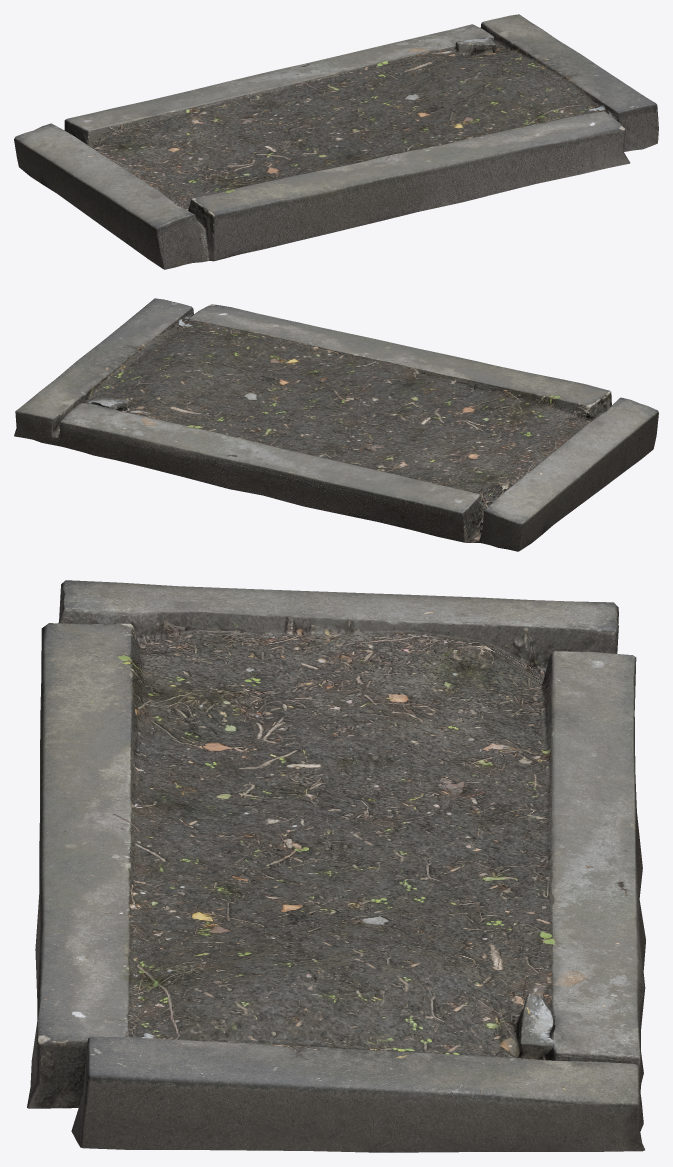
File: sm_Grave_05_02.fbx
The picture shows the model from 3 angles, top to bottom: view 1: azimuth 30°, elevation 25°; view 2: azimuth 150°, elevation 25°; view 3: azimuth 270°, elevation 25°; orthographic projection. The views are drawn at different scales.
Parts seen in each view (by area): view 1: sm_Grave_05_02_LOD0; view 2: sm_Grave_05_02_LOD0; view 3: sm_Grave_05_02_LOD0.
Boxes of the visible parts, x1,y1,x2,y2 form: sm_Grave_05_02_LOD0: [14, 14, 658, 269]; sm_Grave_05_02_LOD0: [14, 298, 658, 551]; sm_Grave_05_02_LOD0: [27, 580, 645, 1152].
Bounding box in the file's own units: 240 × 128 × 20.78.
